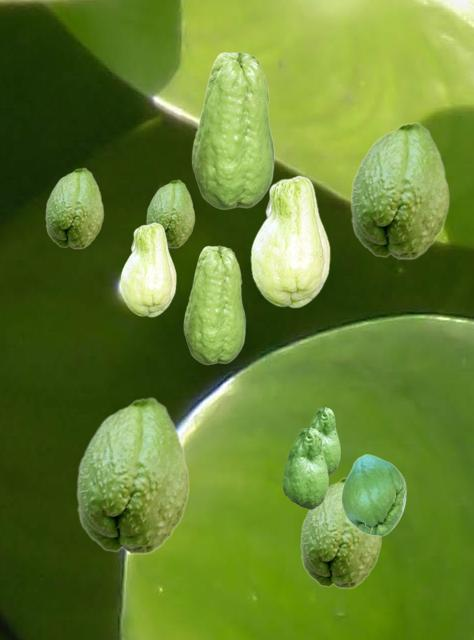sayote: (76, 396, 189, 554), (350, 121, 449, 259), (191, 51, 274, 209), (250, 175, 329, 307), (300, 476, 381, 588), (183, 245, 245, 364), (341, 454, 405, 535), (120, 222, 175, 316), (45, 167, 103, 248), (282, 427, 327, 508), (146, 179, 194, 247), (307, 407, 339, 475)
